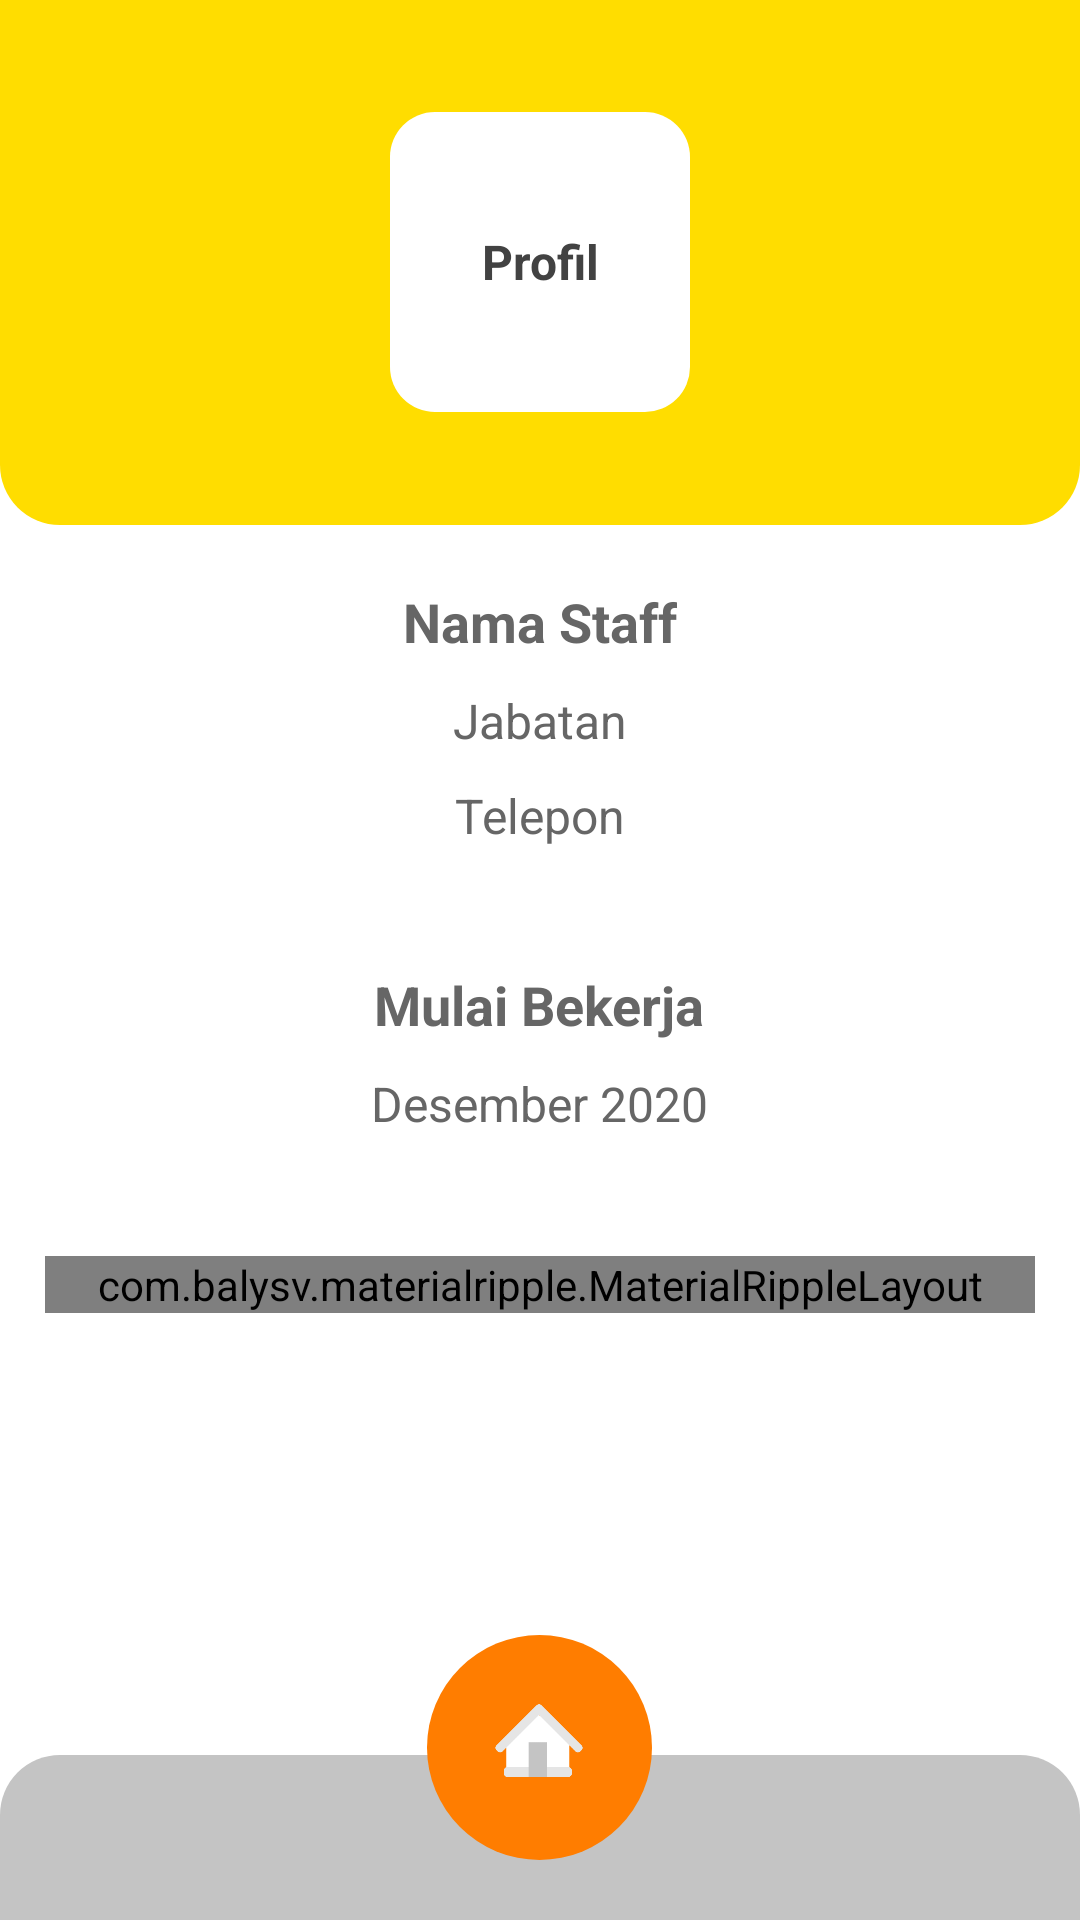

Point at icon controls on the screen. Image size 1080px x 1920px, points as [x,y].
home: [539,1740]
